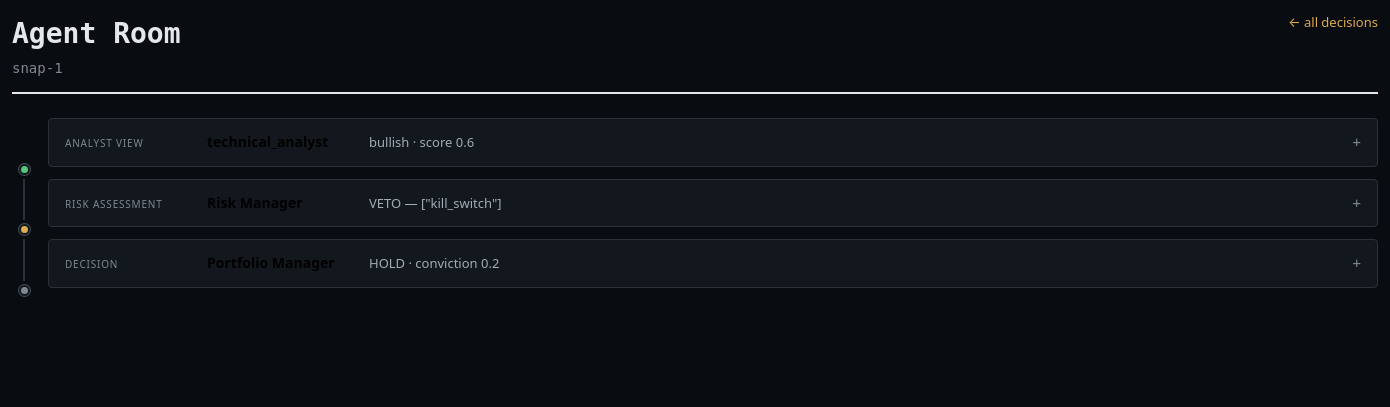
Test: AgentRoom › renders the pipeline flow with expandable nodes for a snapshot
Expected: the text "VETO — [\"kill_switch\"]" is shown, top-left (369, 194), bottom-right (502, 212)
// Expanding a node reveals its raw journaled payload.
Click the text "technical_analyst". click: point(268, 142)
box: top-left (207, 132), bottom-right (328, 151)
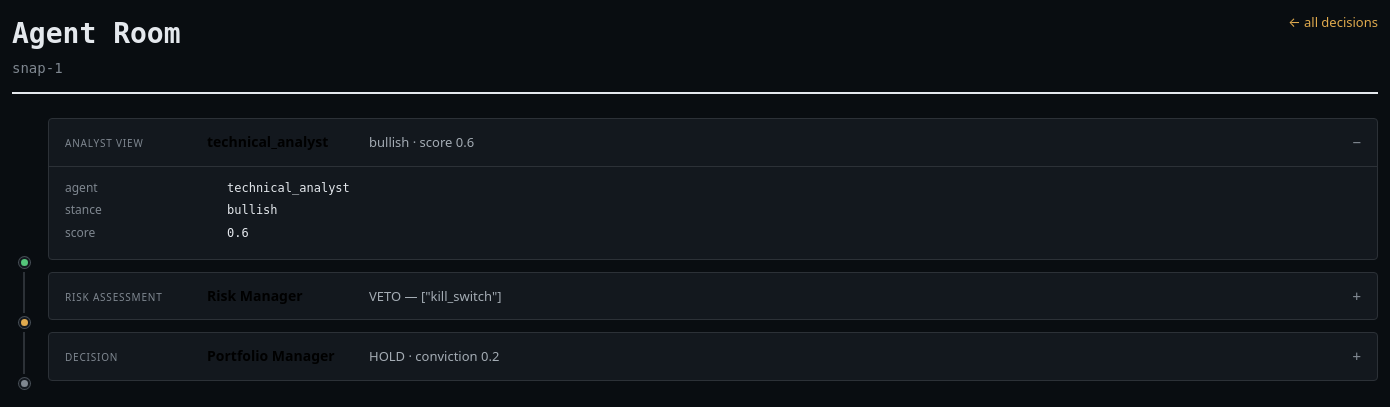
Expected: the text "stance" is shown, top-left (65, 201), bottom-right (102, 218)
